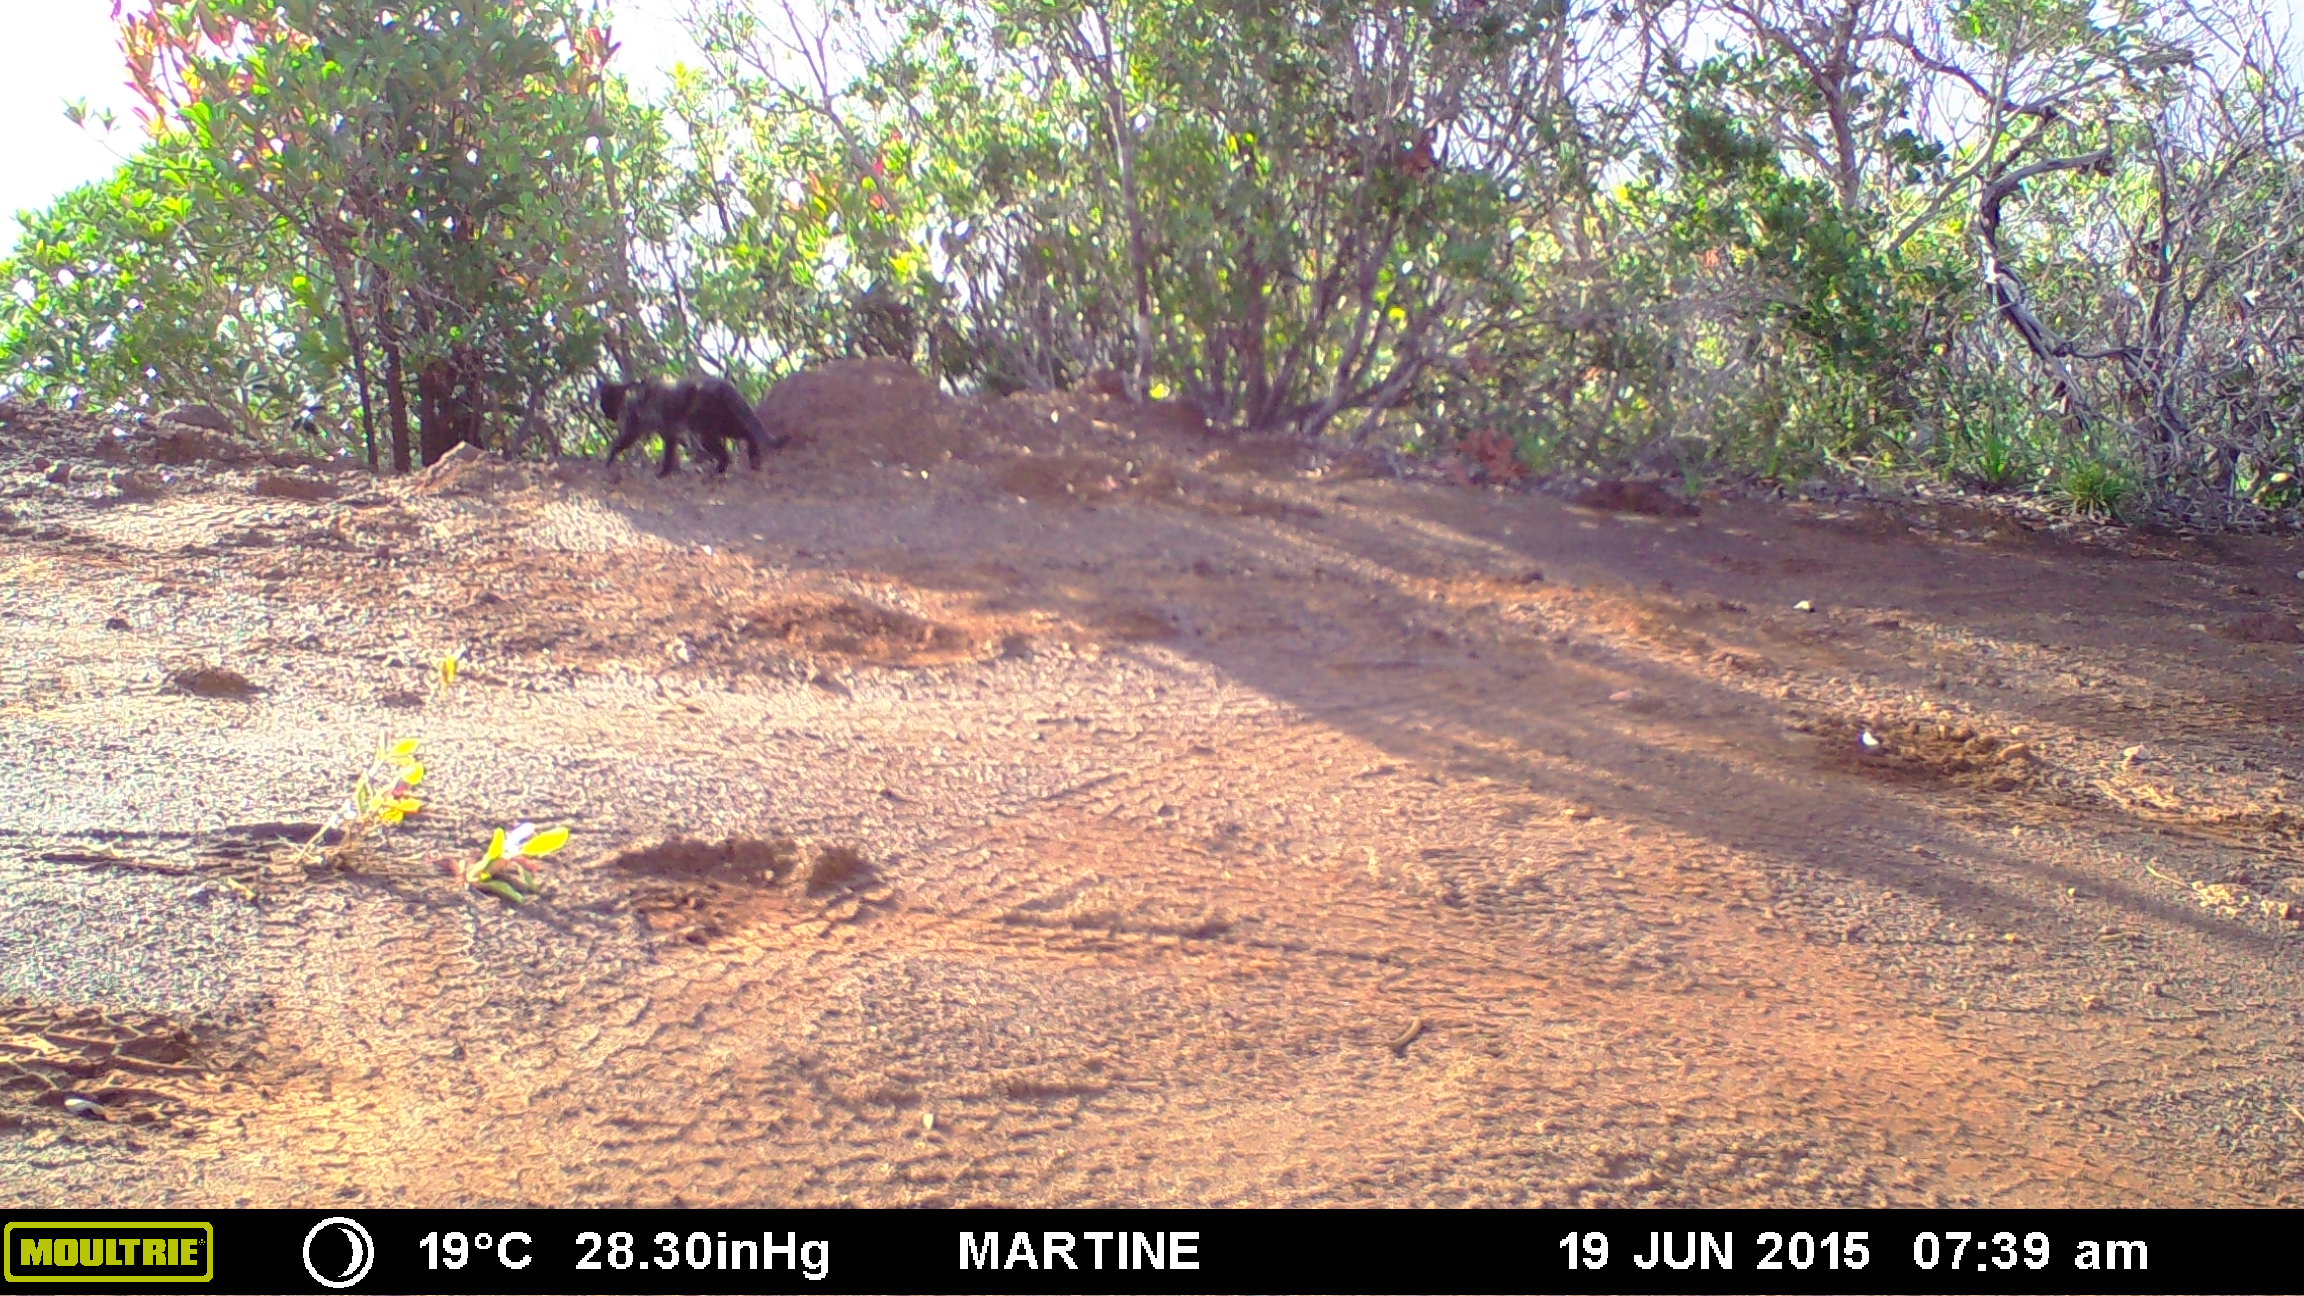cat: (582, 358, 805, 497)
